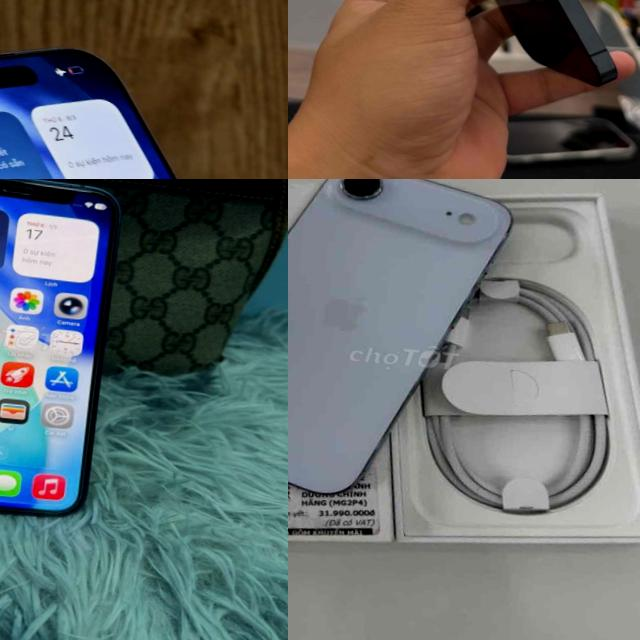gen_12_13: (0, 179, 122, 533), (358, 0, 640, 87)
gen_17: (288, 179, 519, 504), (0, 20, 288, 179)
